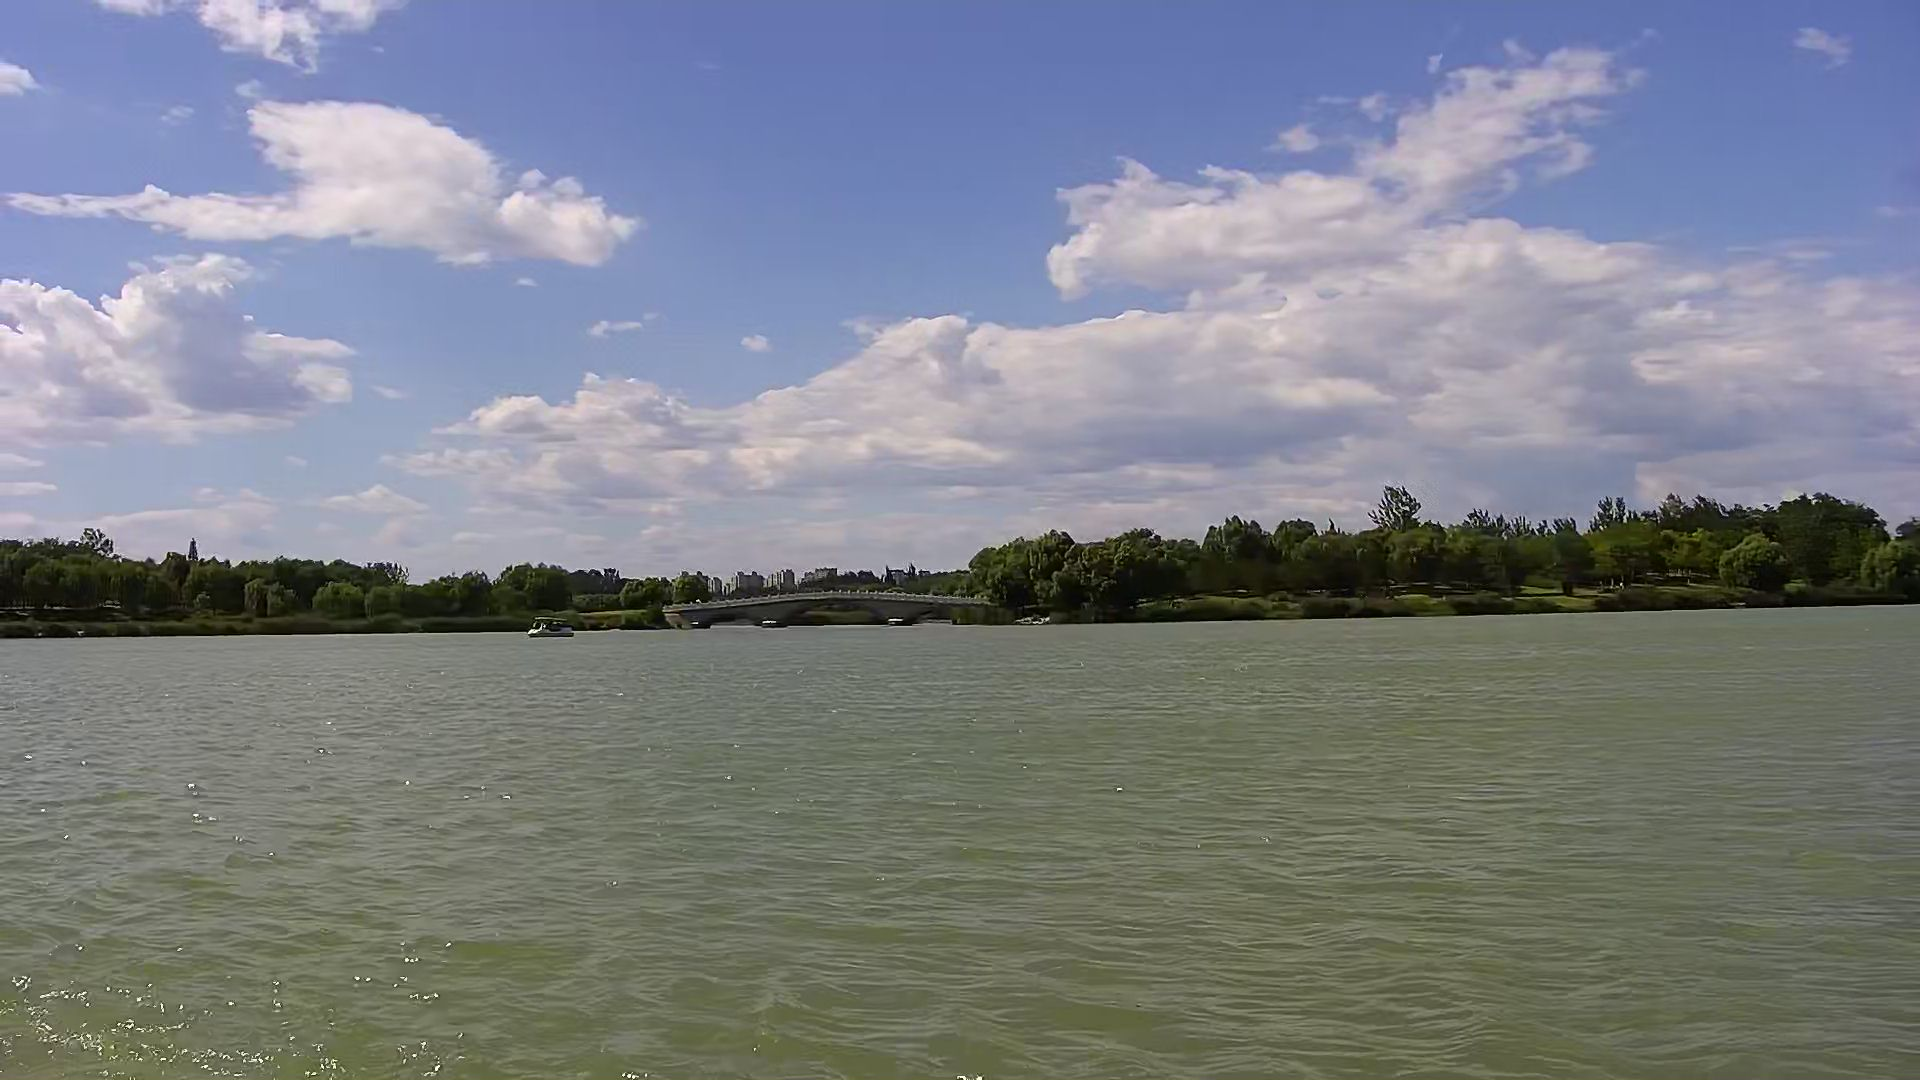boat: (525, 615, 578, 640)
bridge: (669, 591, 993, 626)
